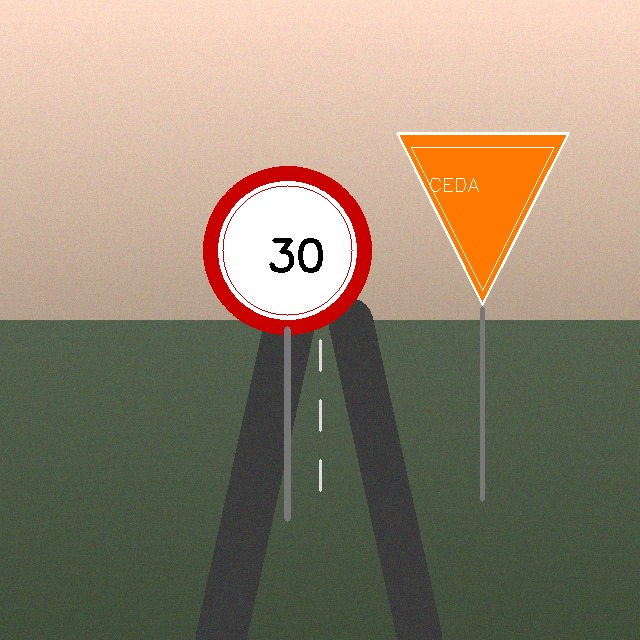ceda_el_paso: (393, 129, 572, 308)
velocidad: (208, 171, 366, 329)
